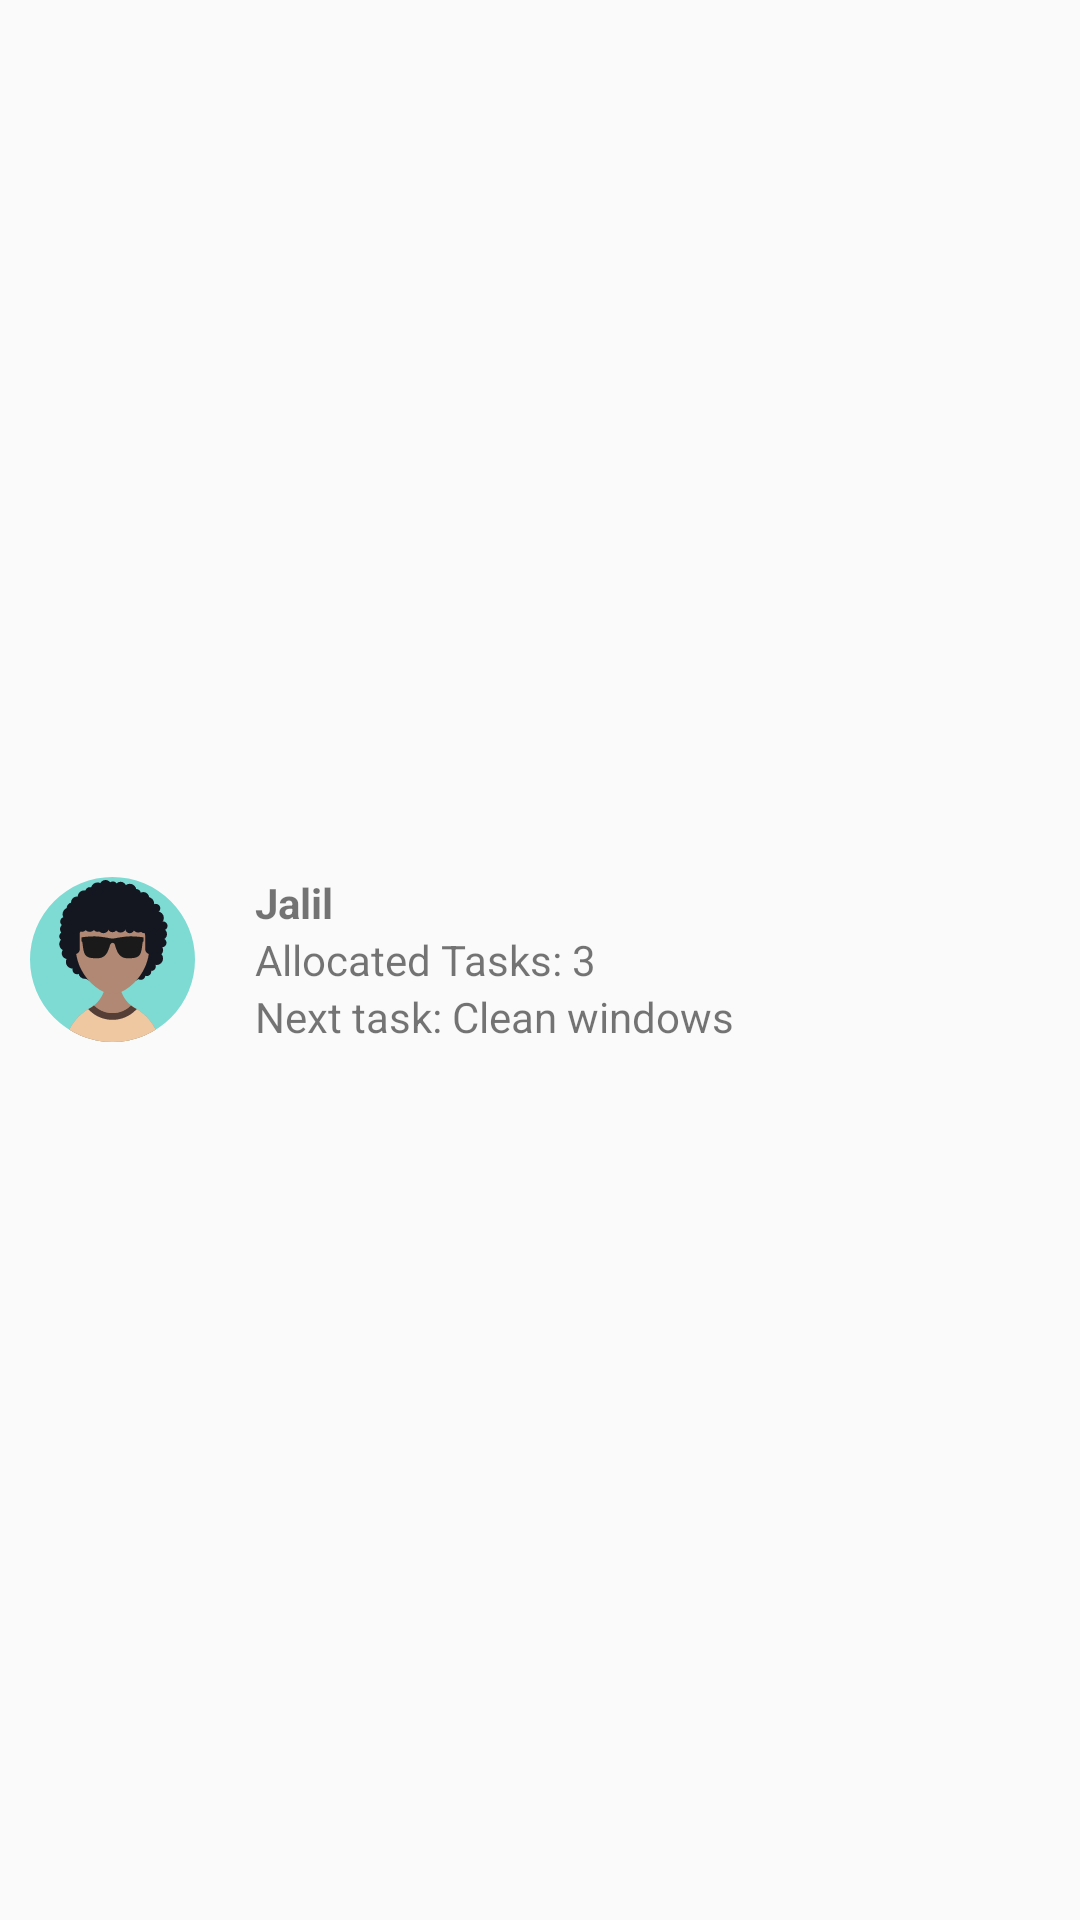

Icon click points for this 1080×1920 phone screenshot, format (x=x, y=y):
avatar: (x=112, y=959)
